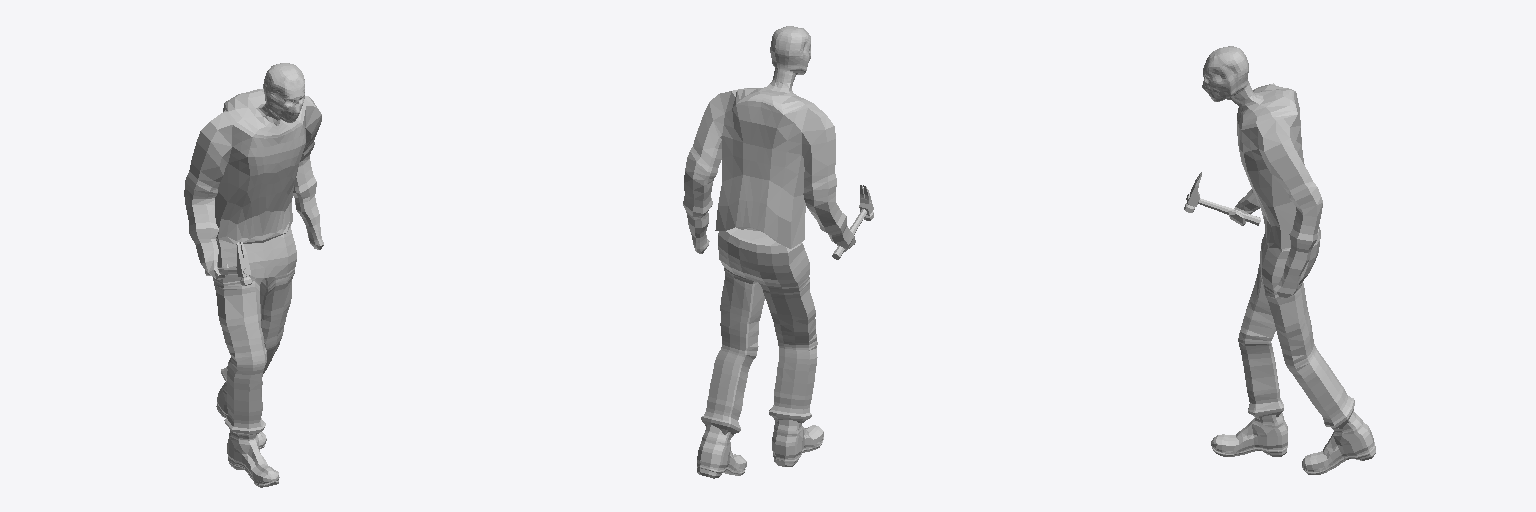
Rendered from Murderer_Idle121.obj.
3 views of the same model, side by side, from view 1: azimuth 30°, elevation 25°; view 2: azimuth 150°, elevation 25°; view 3: azimuth 270°, elevation 25° (orthographic).
Visible parts, largest first — view 1: Körper, Beine, Stiefel, Hammer; view 2: Körper, Beine, Stiefel, Hammer; view 3: Körper, Beine, Stiefel, Hammer.
Part boxes in pixels (x1,y1,x2,y2): Körper: (184, 63, 323, 279); Beine: (213, 226, 296, 435); Stiefel: (216, 382, 279, 487); Hammer: (205, 242, 251, 285); Körper: (683, 26, 855, 253); Beine: (701, 227, 817, 437); Stiefel: (697, 420, 823, 478); Hammer: (832, 185, 873, 259); Körper: (1202, 46, 1322, 297); Beine: (1238, 227, 1354, 428); Stiefel: (1211, 411, 1375, 474); Hammer: (1184, 172, 1260, 225).
Bounding box in the file's own units: 0.3378 × 0.9615 × 0.4042.